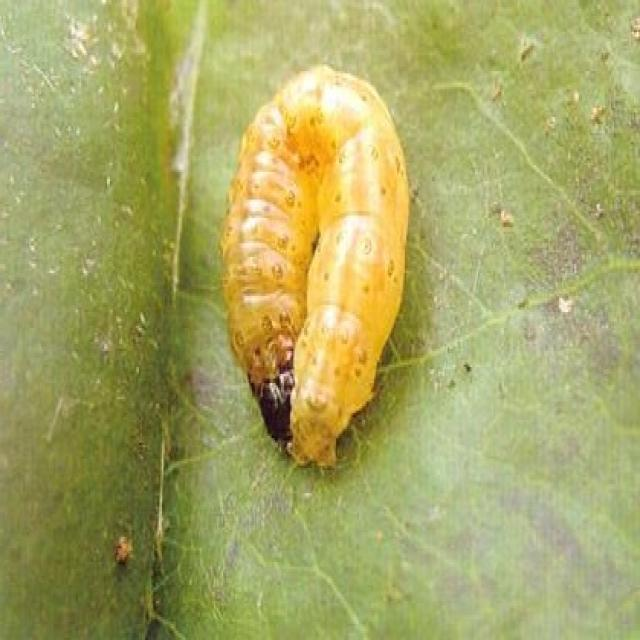peach borer: (207, 62, 415, 463)
